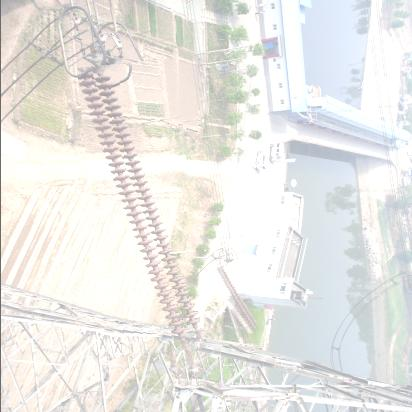insulator: (84, 61, 198, 357), (222, 262, 256, 338)
